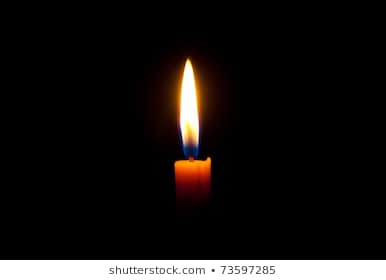Fire: (175, 55, 204, 148)
